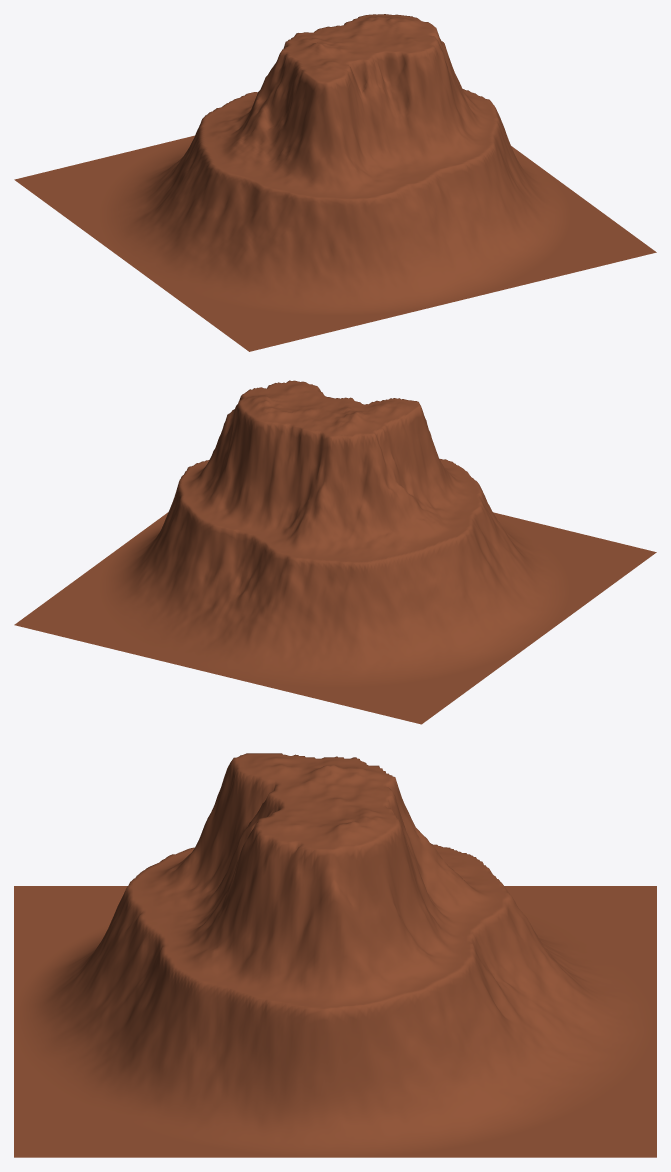
Rendered from level1_add_mountain.fbx.
3 views of the same model, one above another, from view 1: azimuth 30°, elevation 25°; view 2: azimuth 150°, elevation 25°; view 3: azimuth 270°, elevation 25° (orthographic). The views are drawn at different scales.
Visible parts, largest first — view 1: Landscape.004; view 2: Landscape.004; view 3: Landscape.004.
Part boxes in pixels (box(x1,y1,x2,y2)): Landscape.004: box(14, 14, 656, 351); Landscape.004: box(14, 380, 656, 724); Landscape.004: box(14, 753, 656, 1157).
Size of the model in its own units: 3250 by 1361 by 3250.
